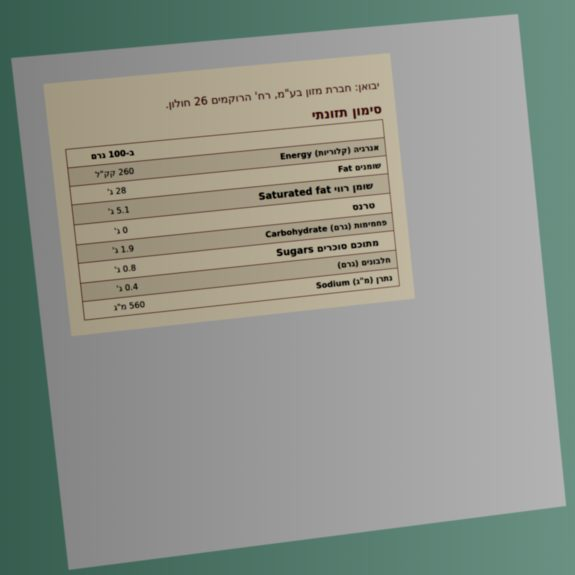carbs: (110, 242, 136, 257)
energy: (93, 164, 136, 181)
fat: (105, 184, 128, 198)
protein: (115, 280, 140, 295)
